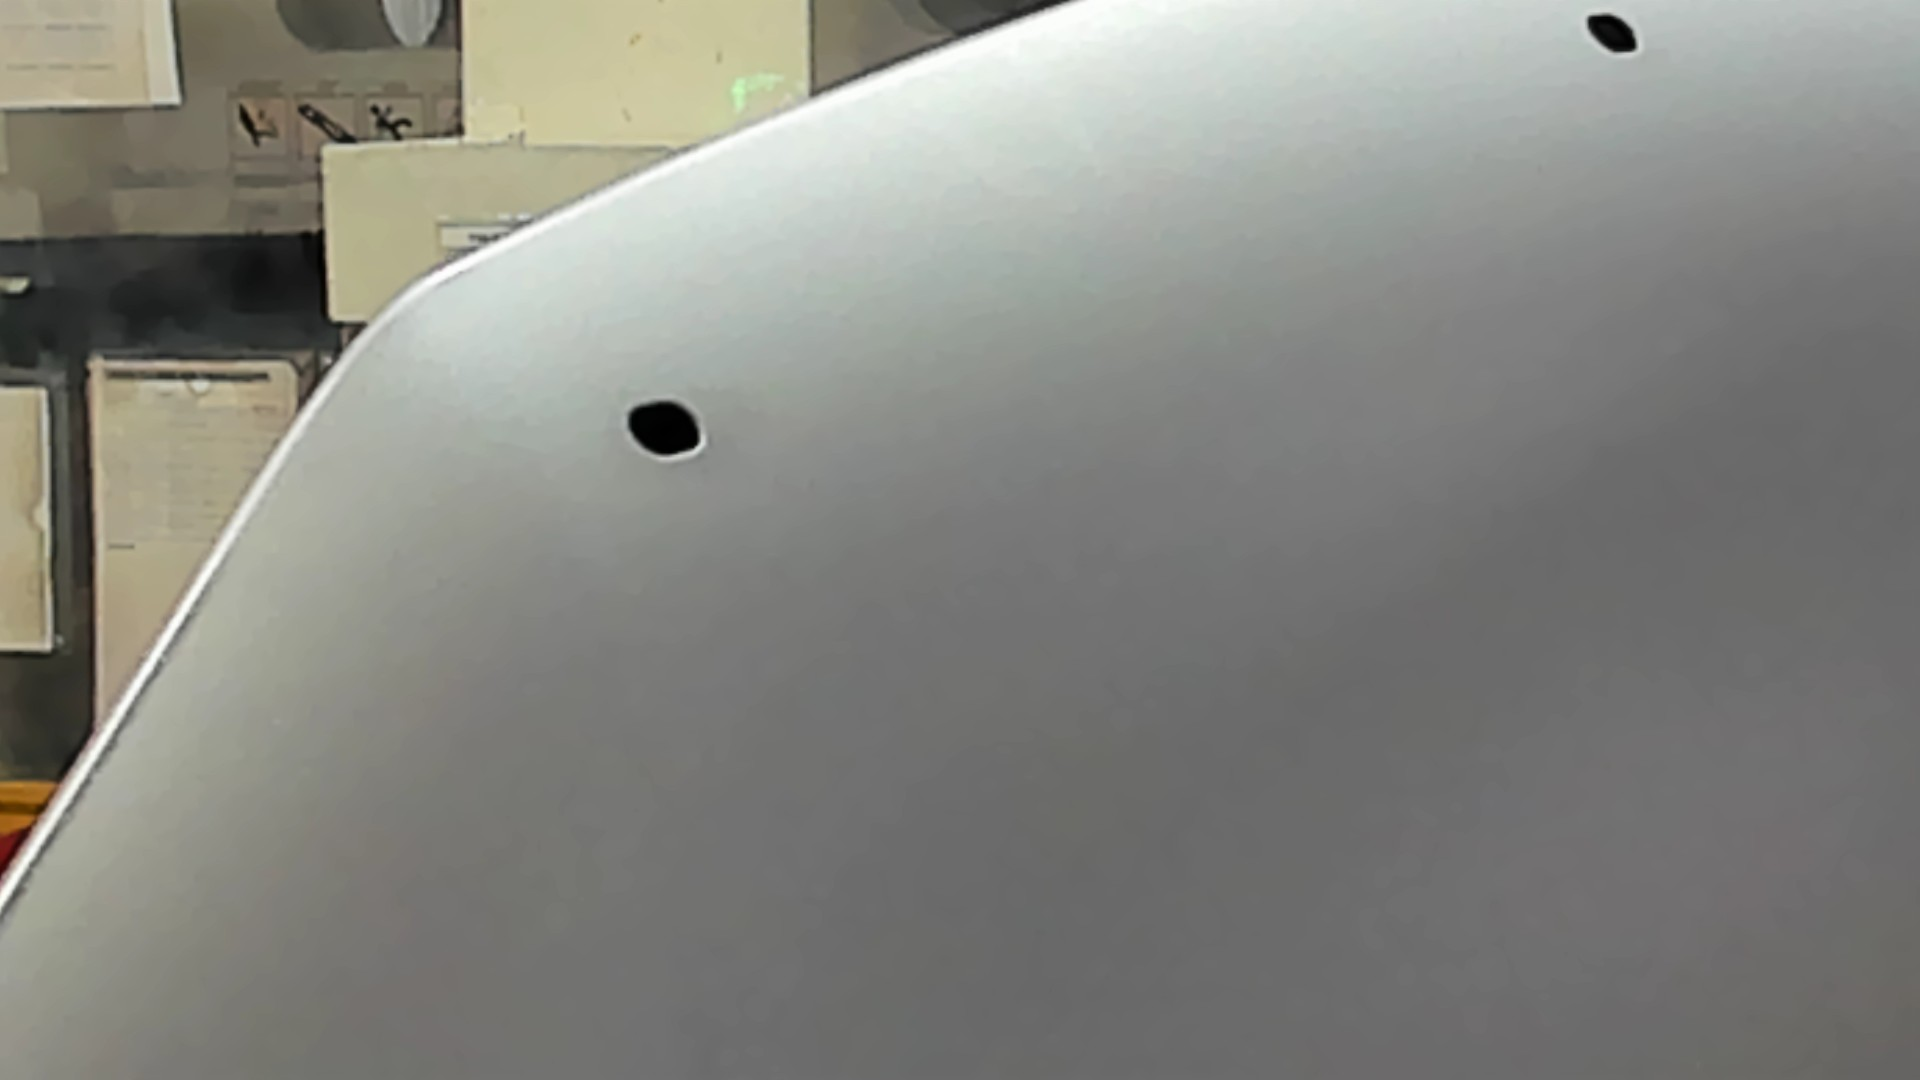chico: (609, 392, 723, 472), (1578, 1, 1650, 69)
